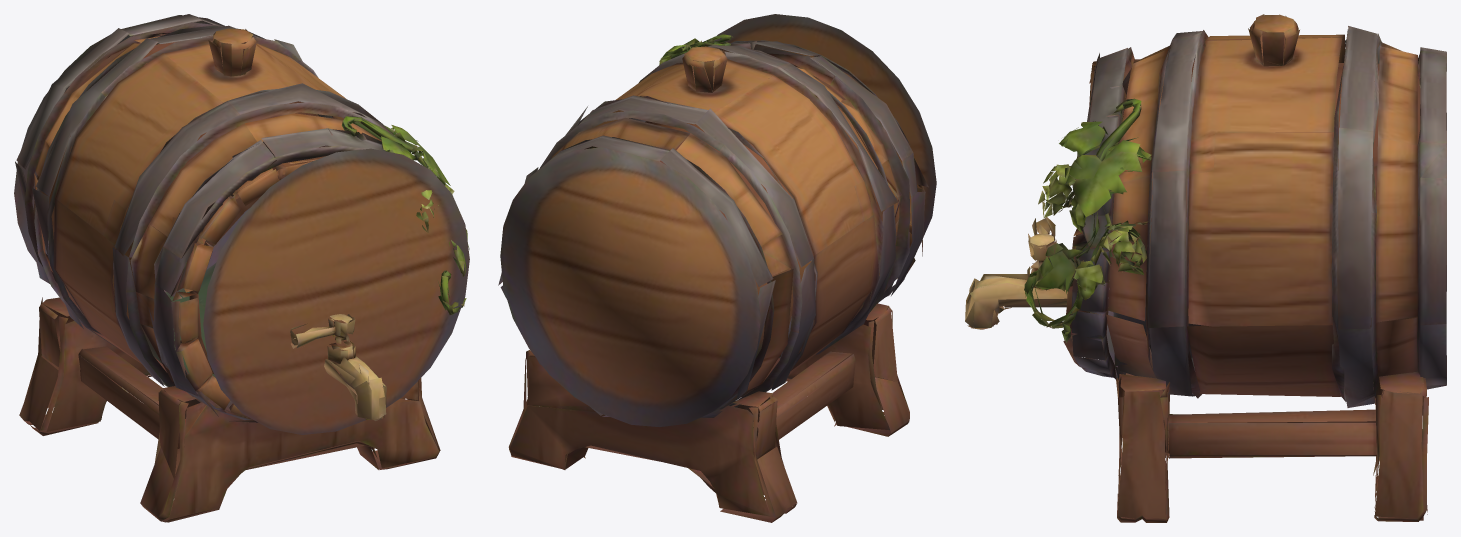
Rendered from bigkeg.glb.
The picture shows the model from 3 angles, left to right: view 1: azimuth 30°, elevation 25°; view 2: azimuth 150°, elevation 25°; view 3: azimuth 270°, elevation 25°; orthographic projection. The views are drawn at different scales.
Visible parts, largest first — view 1: bigkeg; view 2: bigkeg; view 3: bigkeg.
Boxes of the visible parts, bbox=[...] form: bigkeg: bbox=[14, 14, 469, 522]; bigkeg: bbox=[498, 14, 936, 522]; bigkeg: bbox=[965, 14, 1446, 522].
Bounding box in the file's own units: 1.82 × 2.3 × 2.33.
Materials: 1 (1 with a texture image).
